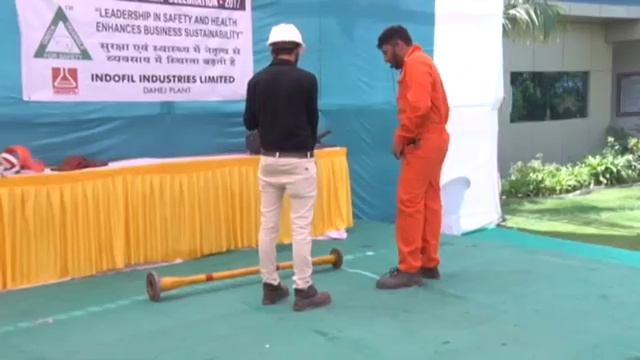helmet: (265, 20, 307, 52)
helmet_off: (376, 24, 417, 70)
helmet_on: (264, 21, 308, 68)
person: (246, 19, 332, 312), (374, 21, 445, 290)
